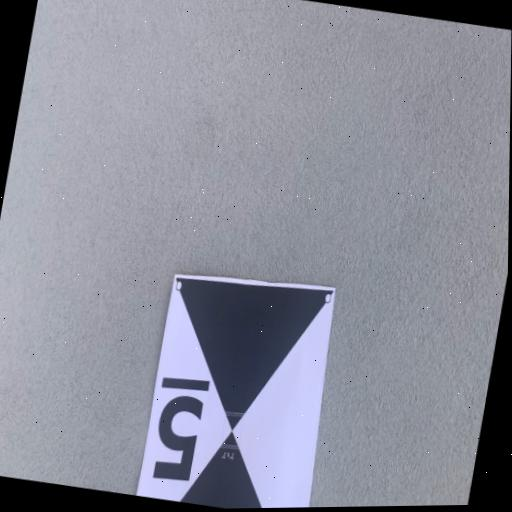target5: (136, 275, 336, 508)
